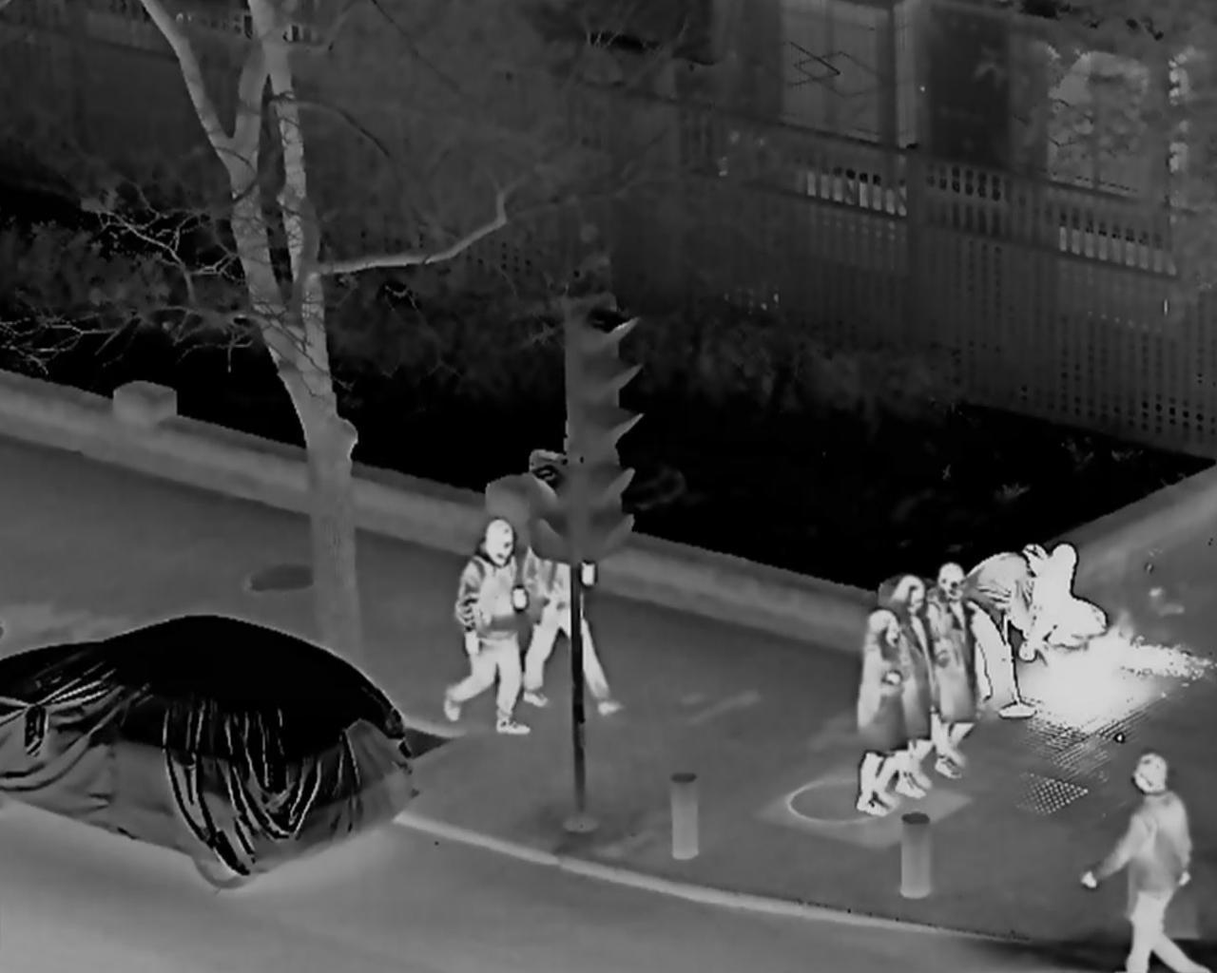person: (1076, 752, 1217, 969), (520, 492, 626, 717), (446, 520, 531, 735), (957, 543, 1041, 715), (922, 569, 980, 784), (881, 581, 936, 801), (853, 613, 907, 817), (1024, 544, 1109, 661)
